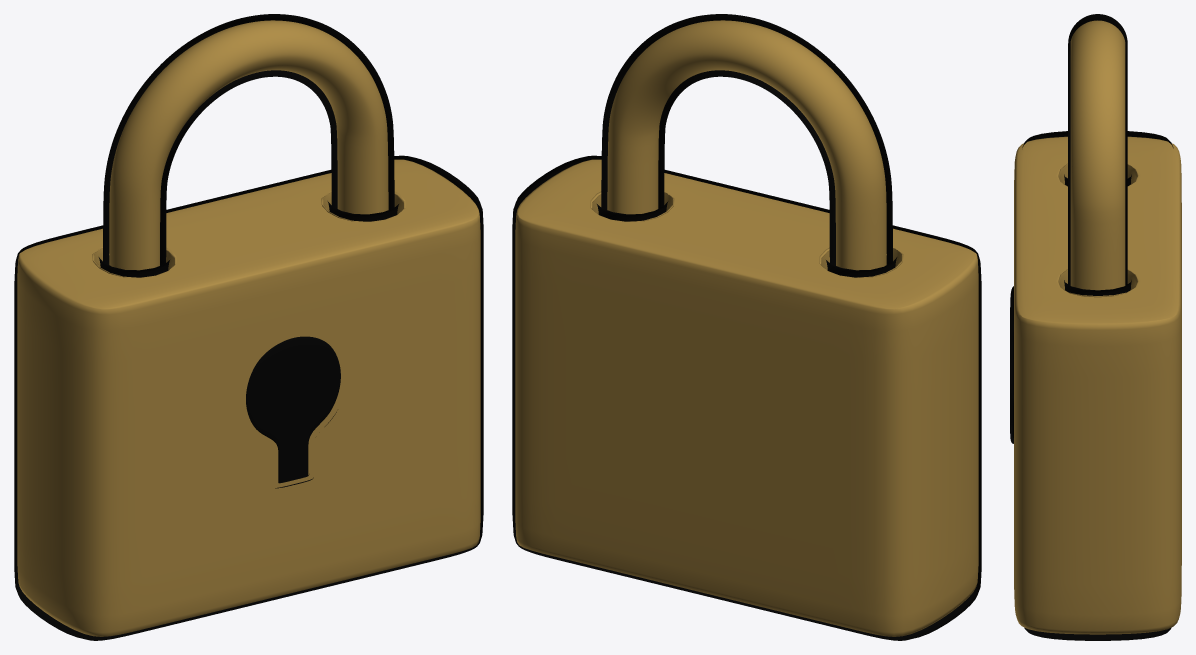
File: padlock.glb
3 views of the same model, side by side, from view 1: azimuth 30°, elevation 25°; view 2: azimuth 150°, elevation 25°; view 3: azimuth 270°, elevation 25° (orthographic). The views are drawn at different scales.
Visible parts, largest first — view 1: keyhole002, Cube001, keyhole, Cube001_1; view 2: keyhole002, Cube001, keyhole, Cube001_1; view 3: keyhole002, Cube001, keyhole, Cube001_1.
Boxes of the visible parts, x1,y1,x2,y2 form: keyhole002: (17,159,480,636); Cube001: (109,20,388,270); keyhole: (14,155,483,640); Cube001_1: (103,14,394,265); keyhole002: (515,159,978,636); Cube001: (607,20,886,270); keyhole: (512,155,981,640); Cube001_1: (601,14,892,265); keyhole002: (1014,136,1181,634); Cube001: (1070,20,1125,290); keyhole: (1010,131,1173,640); Cube001_1: (1068,14,1127,285).
Bounding box in the file's own units: 3.23 × 3.98 × 1.19.
